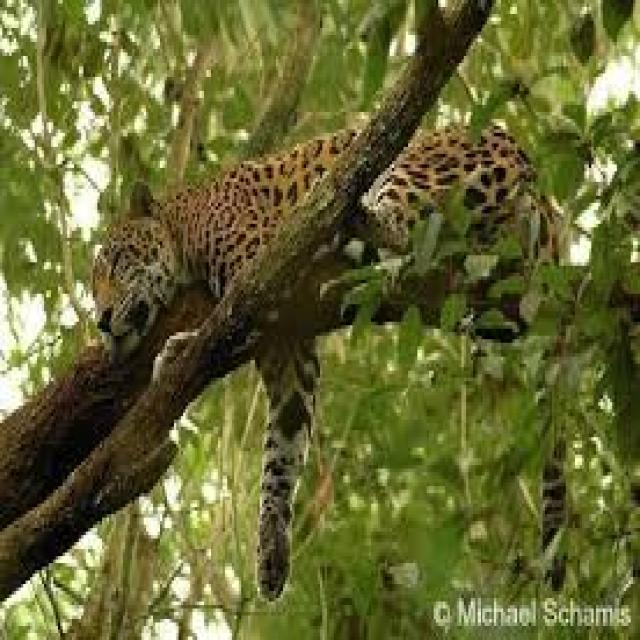Jaguar: (88, 112, 580, 598)
